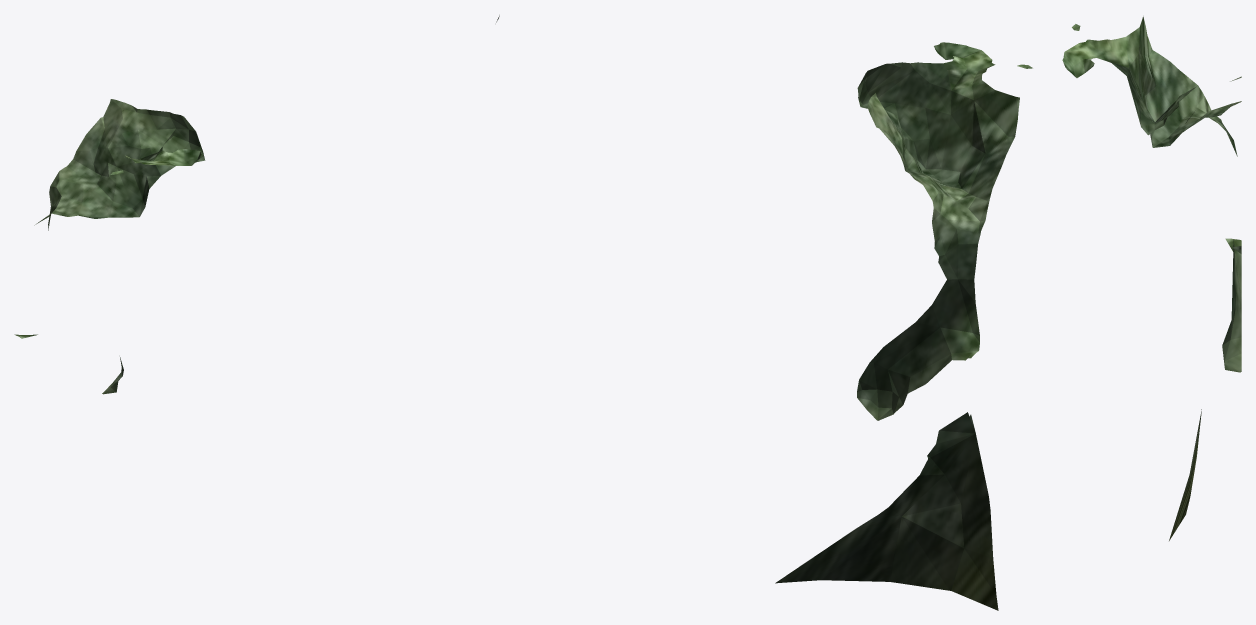
3 views of the same model, side by side, from view 1: azimuth 30°, elevation 25°; view 2: azimuth 150°, elevation 25°; view 3: azimuth 270°, elevation 25° (orthographic). The views are drawn at different scales.
Bounding box in the file's own units: 5.9 × 5.9 × 1.91.
Materials: 1 (1 with a texture image).
